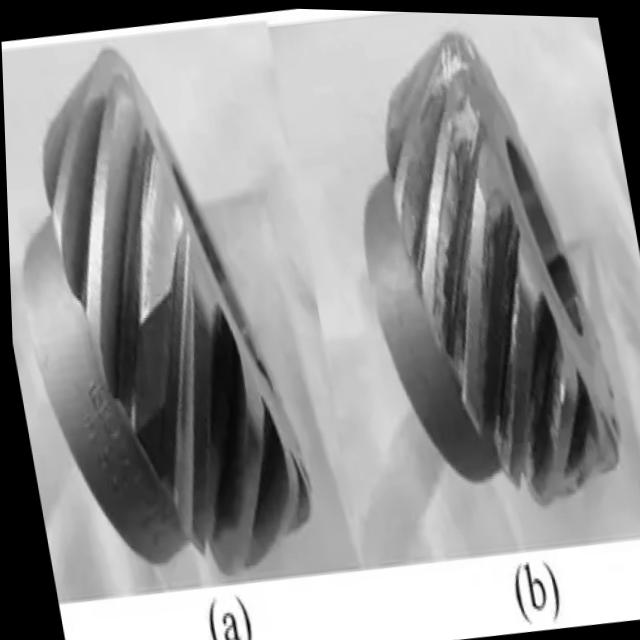Fault-Exist: (300, 9, 640, 562)
No Fault: (1, 23, 366, 591)
